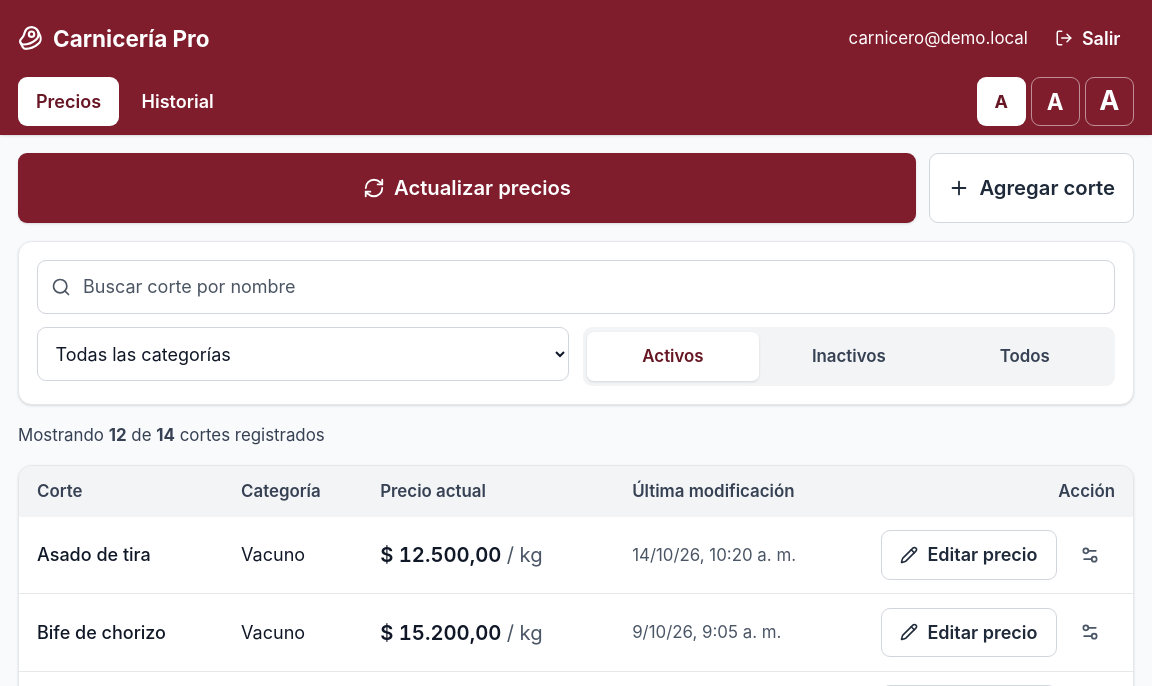
DashboardPage › muestra el error del servidor si el nombre del corte ya existe
Click the button "Agregar corte" at {"x": 1032, "y": 188}, box top-left (929, 153), bottom-right (1134, 222)
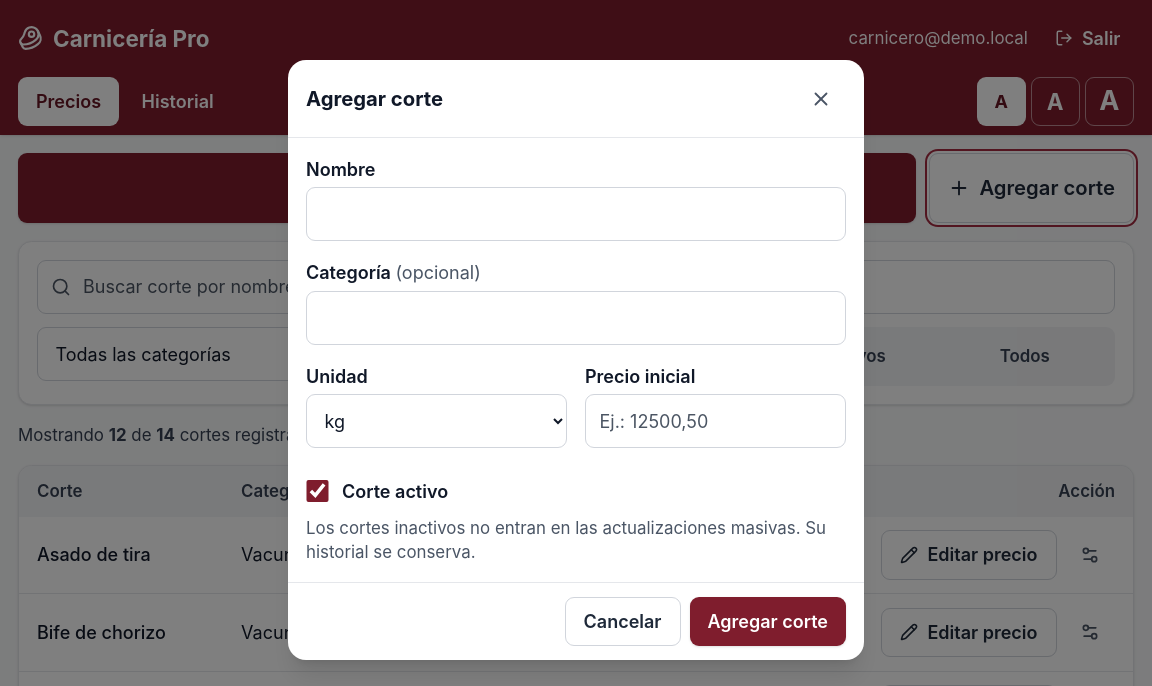
Type "Molida nueva" into the field labelled "Nombre" at {"x": 576, "y": 214}, box top-left (306, 187), bottom-right (846, 241)
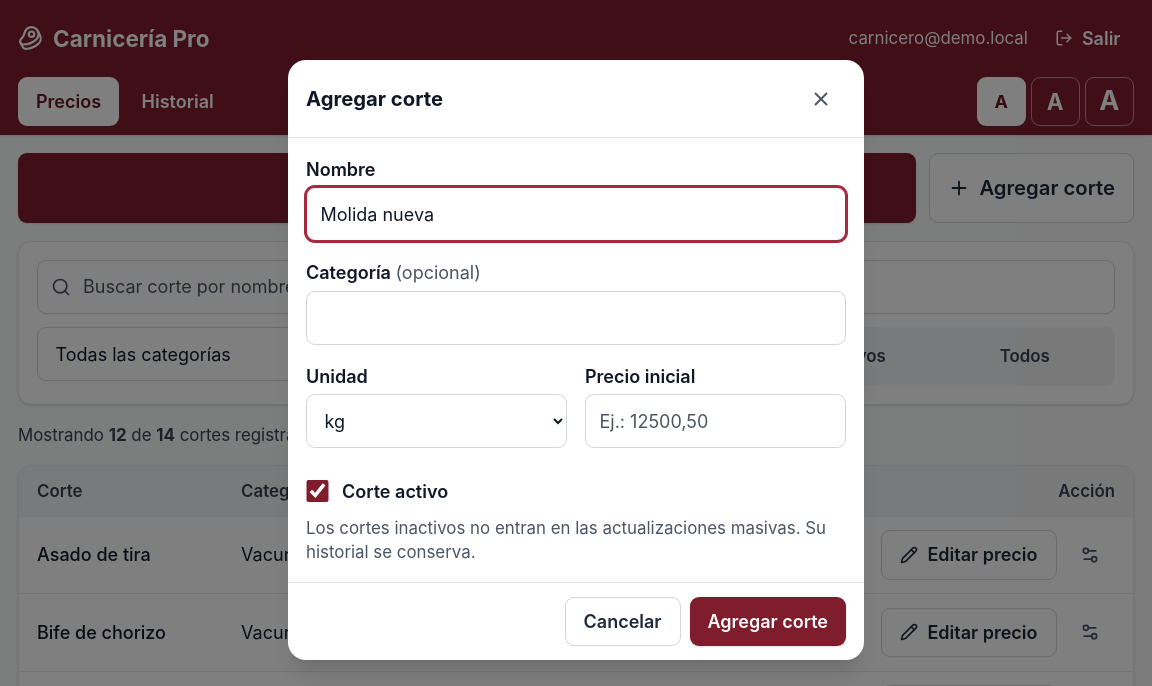
Type "8500" into the field labelled "Precio inicial" at {"x": 716, "y": 421}, box top-left (585, 394), bottom-right (846, 448)
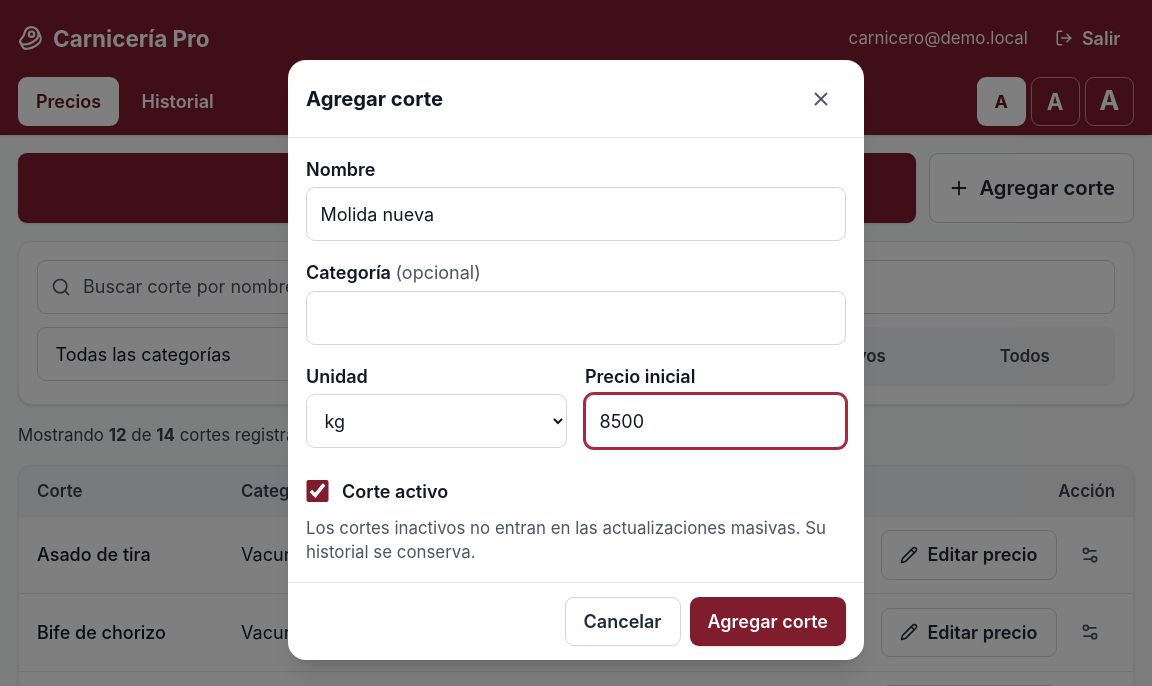
Click the button "Agregar corte" at {"x": 768, "y": 621}, box top-left (690, 597), bottom-right (846, 646)
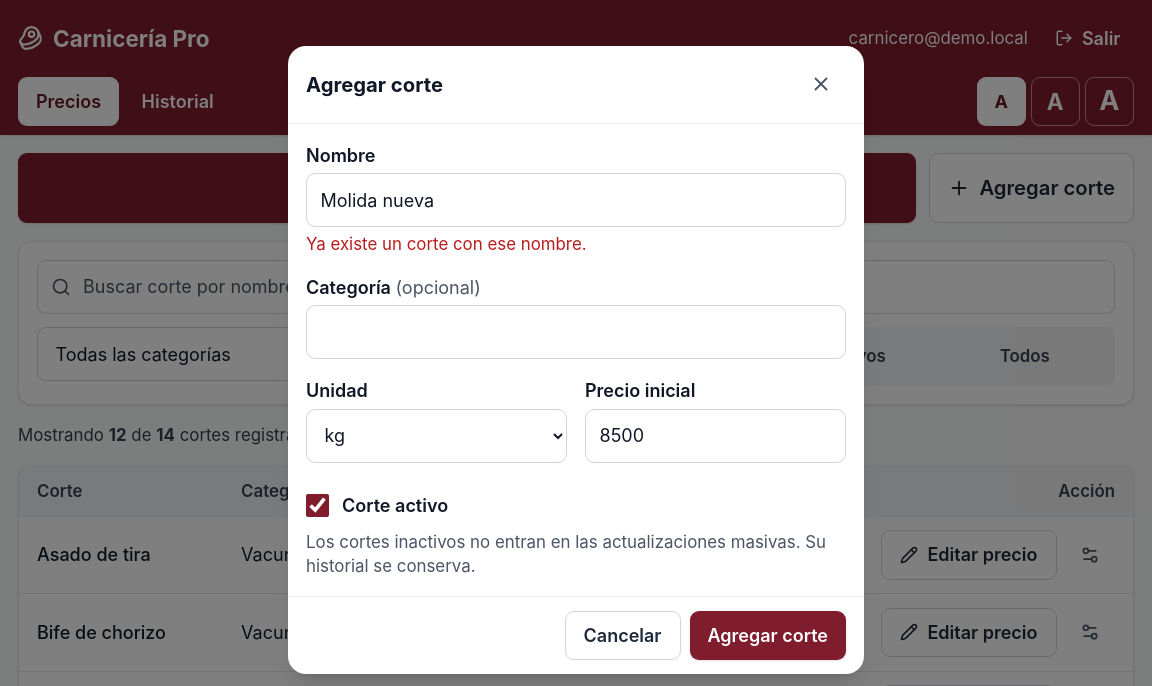
Result: the dialog is shown at top-left (288, 46), bottom-right (864, 674)
Result: the text "Ya existe un corte con ese nombre." is shown at top-left (306, 234), bottom-right (587, 254)
